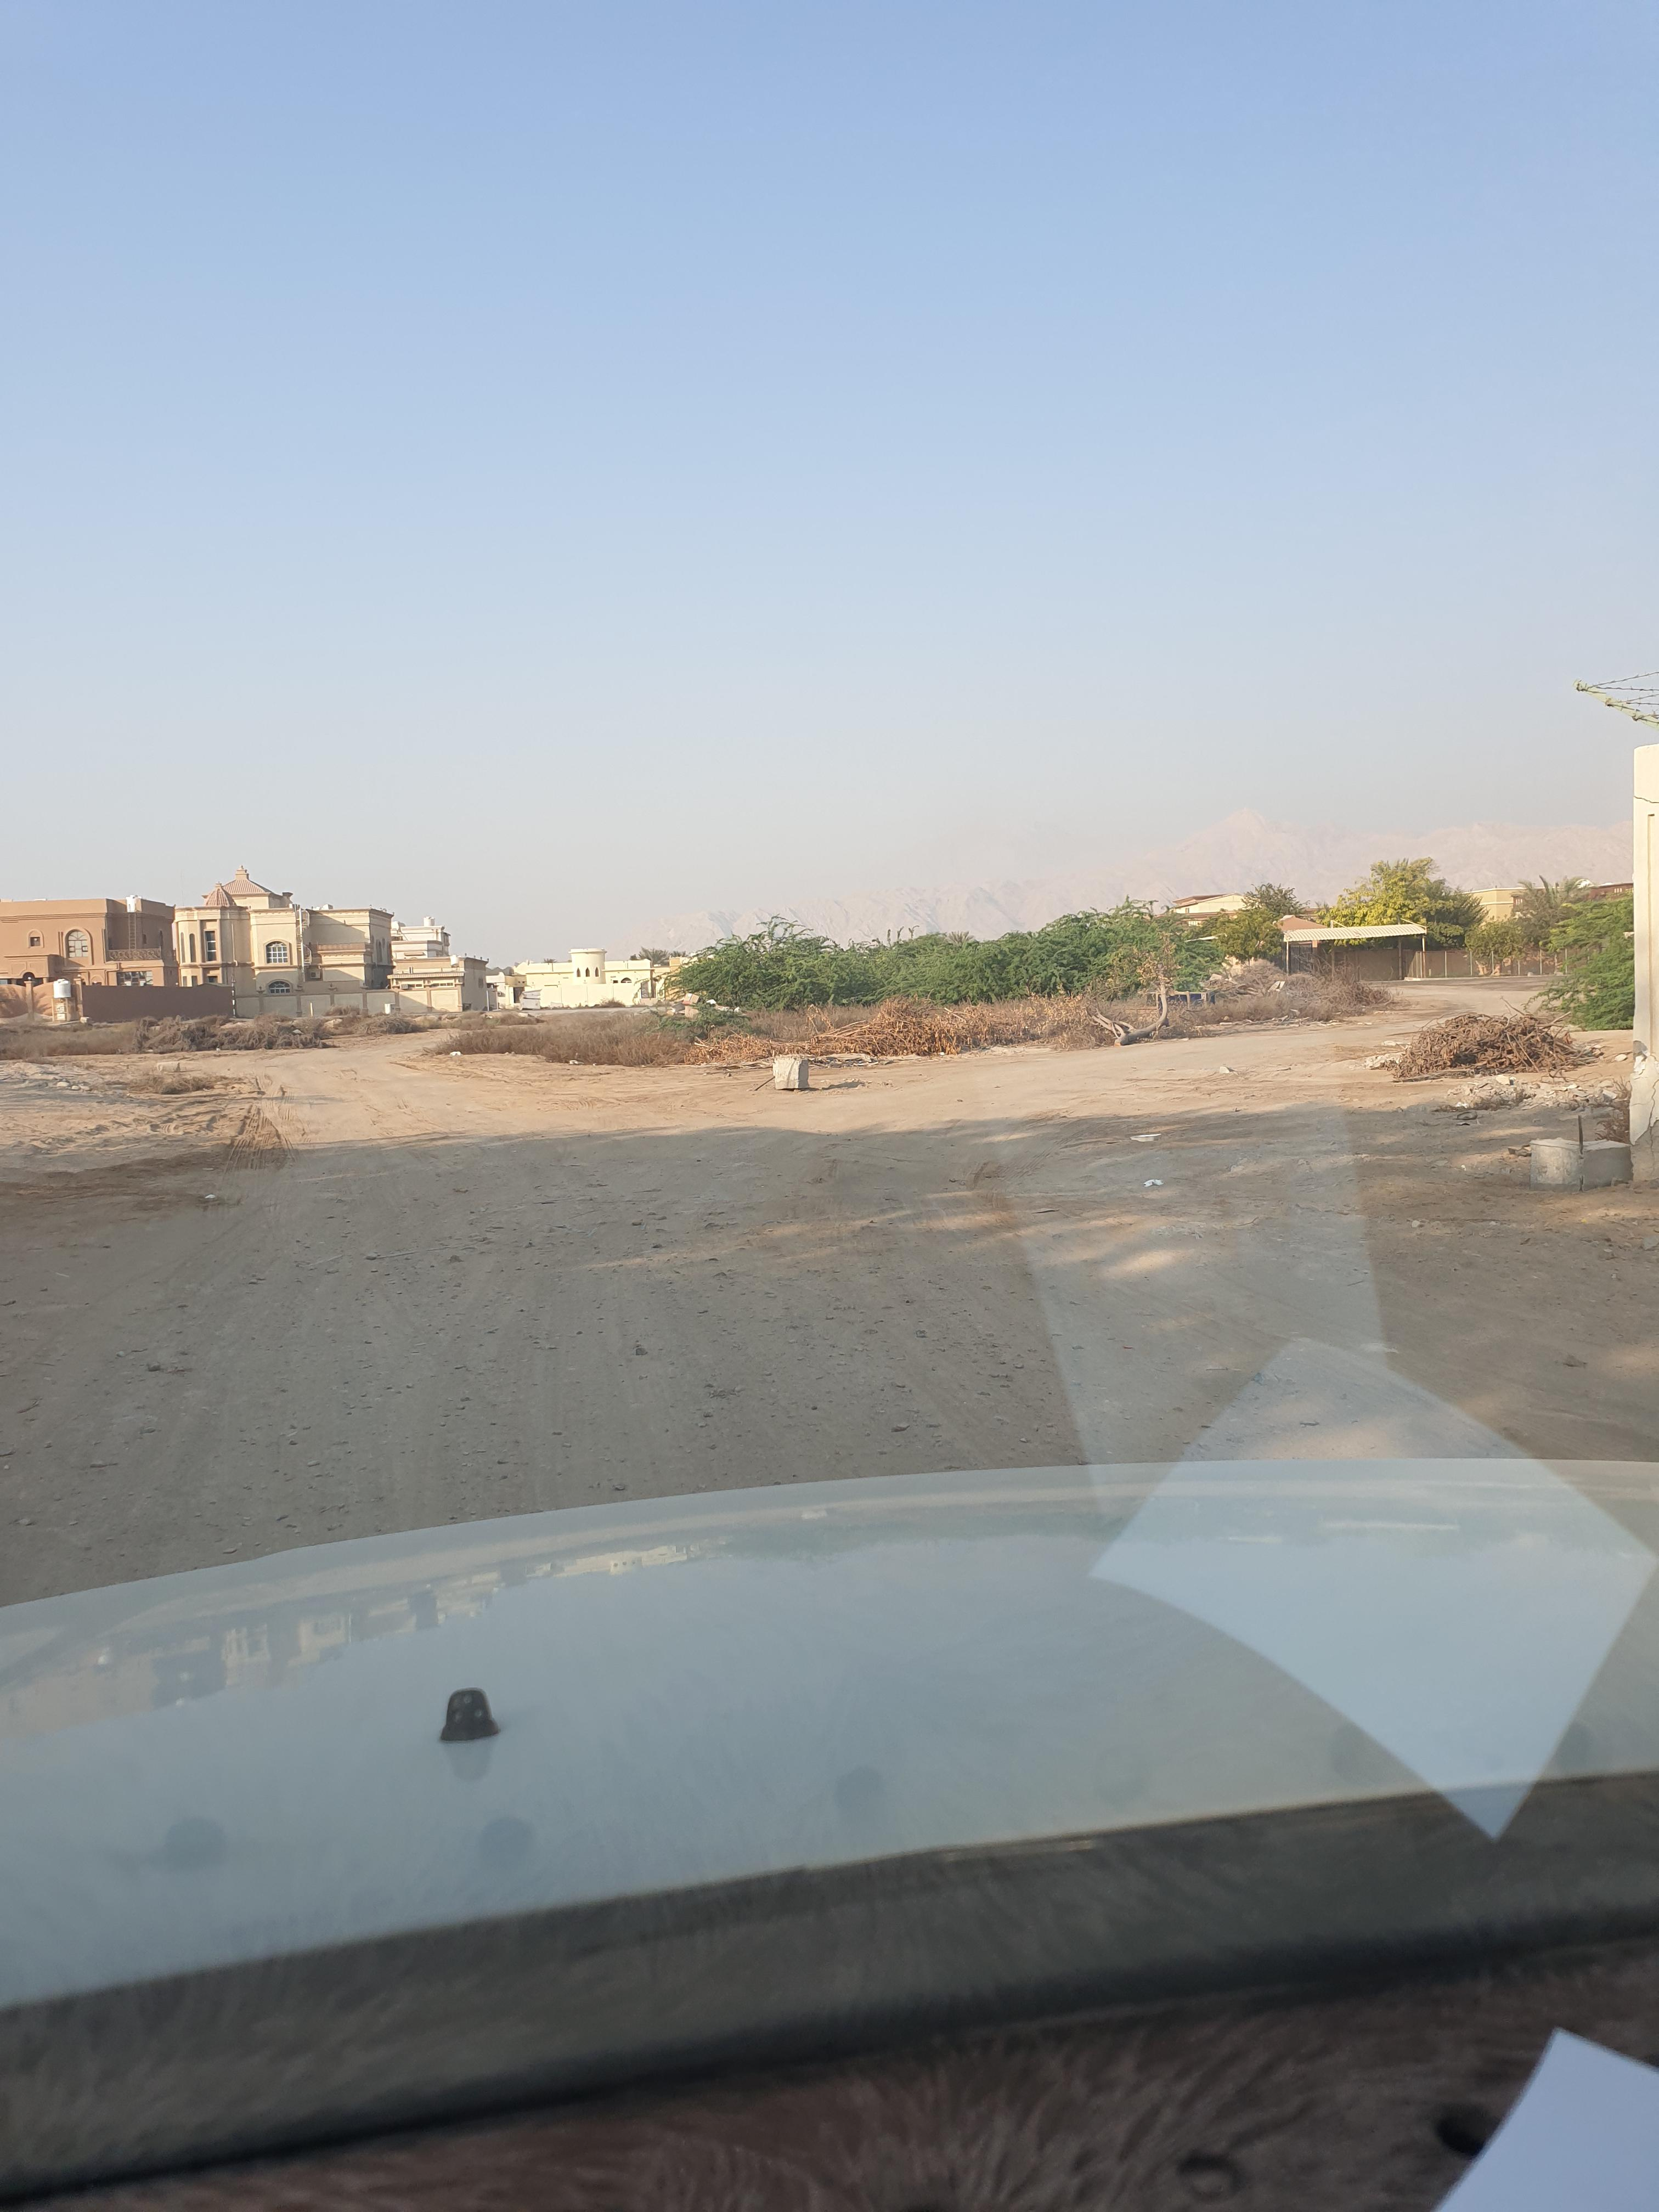fallen_trees: (828, 1024, 997, 1071), (1044, 1017, 1199, 1054), (211, 1029, 350, 1059), (685, 1042, 769, 1075), (124, 1071, 237, 1096)
